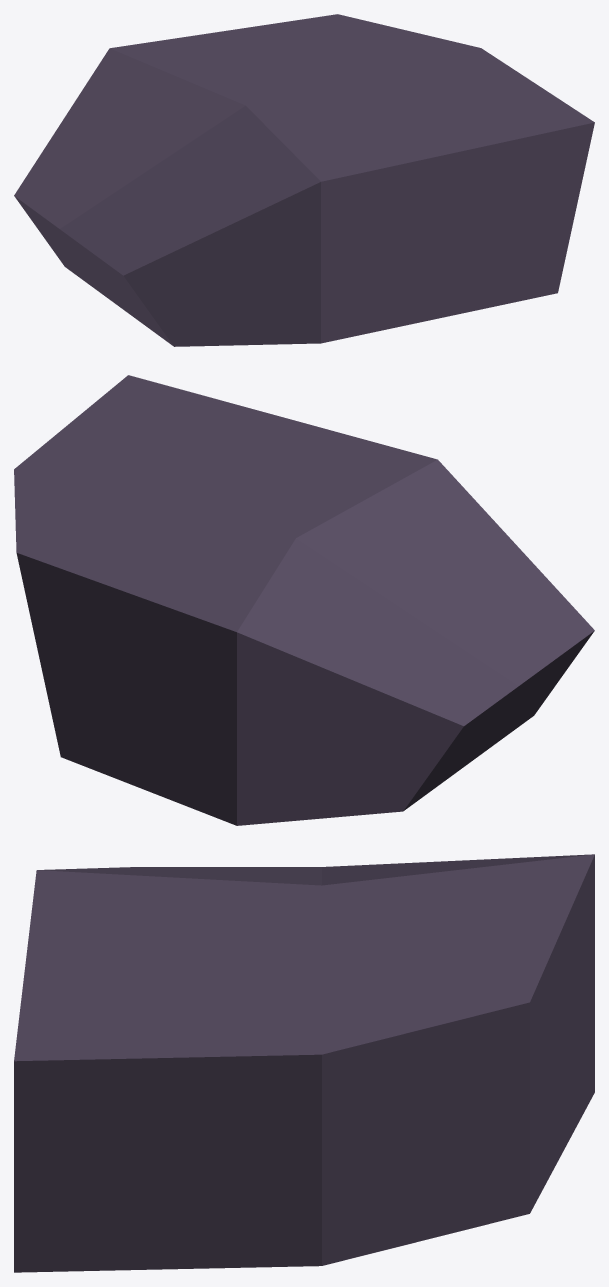
The model's file is SM_rock_small_03.fbx.
The picture shows the model from 3 angles, top to bottom: view 1: azimuth 30°, elevation 25°; view 2: azimuth 150°, elevation 25°; view 3: azimuth 270°, elevation 25°; orthographic projection. The views are drawn at different scales.
Parts seen in each view (by area): view 1: rock_small_03; view 2: rock_small_03; view 3: rock_small_03.
Boxes of the visible parts, box(x1,y1,x2,y2) form: rock_small_03: box(14, 14, 594, 346); rock_small_03: box(14, 375, 594, 825); rock_small_03: box(14, 854, 594, 1272).
Bounding box in the file's own units: 68.33 × 24.52 × 54.24.
